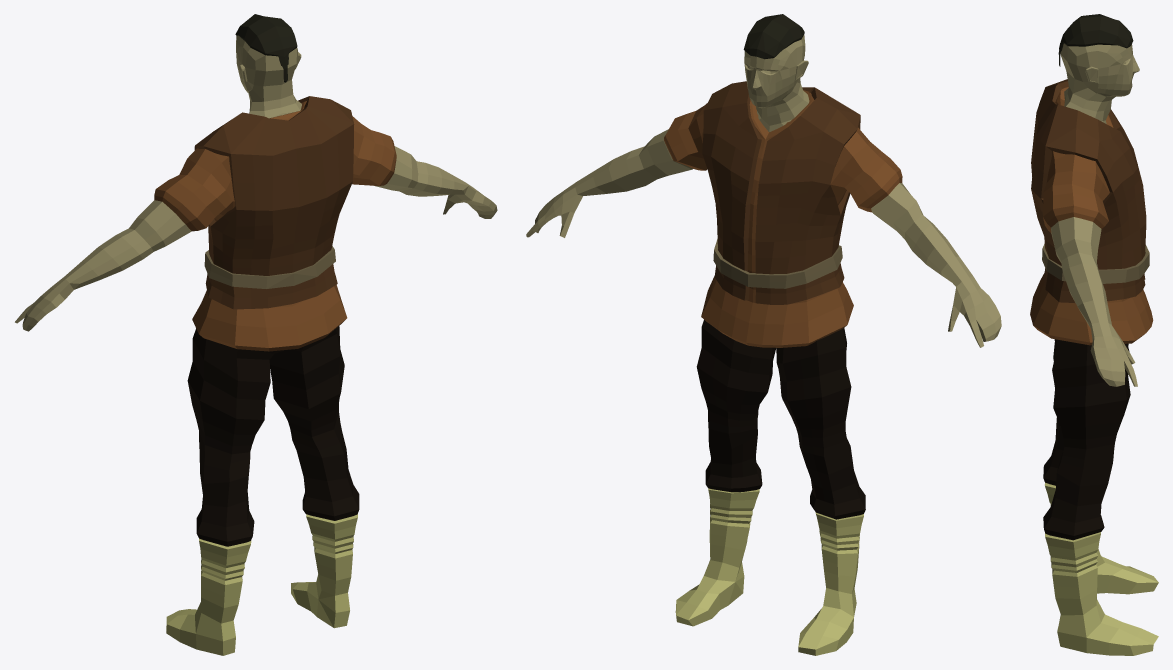
The model's file is main_character_GameReady_TPose.fbx.
3 renders of one model, left to right at view 1: azimuth 30°, elevation 25°; view 2: azimuth 150°, elevation 25°; view 3: azimuth 270°, elevation 25°, orthographic.
Parts seen in each view (by area): view 1: male.009; view 2: male.009; view 3: male.009.
Boxes of the visible parts, x1,y1,x2,y2 form: male.009: (15,14,497,655); male.009: (526,14,1001,655); male.009: (1030,14,1158,655).
Bounding box in the file's own units: 284 × 352 × 68.43.
